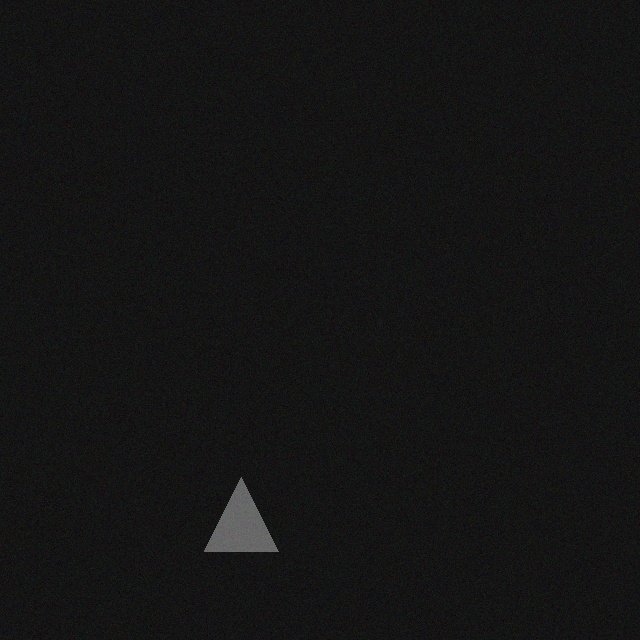triangle: (203, 471, 277, 545)
